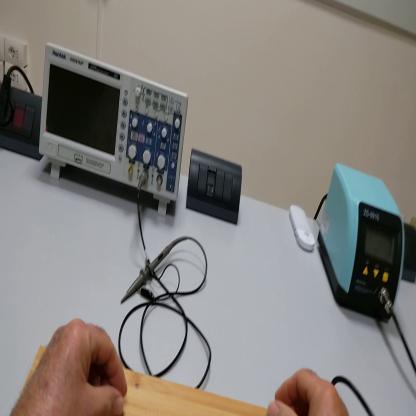hand: (13, 318, 130, 414), (271, 367, 350, 415)
oscilloscope: (40, 43, 190, 220)
oscilloscope probe tip: (124, 242, 173, 305)
socket: (2, 80, 46, 164), (402, 224, 416, 286)
welder station: (318, 162, 406, 324)
working area: (26, 348, 271, 416)
